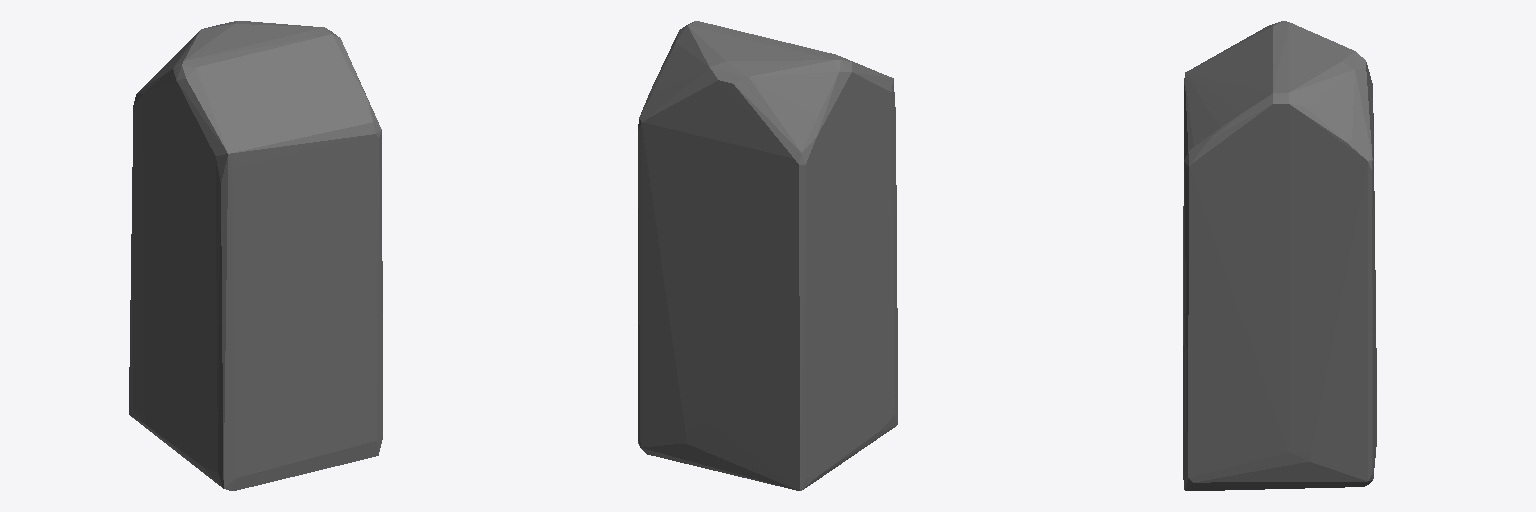
robot.urdf — tetra_pak_023:
<?xml version="1.0" ?>
<robot name="tetra_pak_023">
  <material name="color">
    <color rgba=".5 .5 .5 1"/>
  </material>

  <link name="base_link">
    <contact>
      <lateral_friction value="1.0"/>
      <rolling_friction value="0.001"/>
      <spinning_friction value="0.001"/>
      <inertia_scaling value="1.0"/>
    </contact>
    <inertial>
      <origin rpy="0 0 0" xyz="-2.66882e-06 0.000322246 -0.0124978"/>
       <mass value="0.1"/>
       <inertia ixx="1" ixy="0" ixz="0" iyy="1" iyz="0" izz="1"/>
    </inertial>

    <visual>
      <origin rpy="0 0 0" xyz="0 0 0"/>
      <geometry>
        <mesh filename="tetra_pak_023_vhacd_0_of_1.obj" scale="1 1 1"/>
      </geometry>
      <material name="color"/>
    </visual>

    <collision>
      <origin rpy="0 0 0" xyz="0 0 0"/>
      <geometry>
        <mesh filename="tetra_pak_023_vhacd_0_of_1.obj" scale="1 1 1"/>
      </geometry>
    </collision>

  </link>
</robot>

--- What the picture shows (computed from the rendered views, not written in the file) ---
3 views of the same robot in one strip: view 1: azimuth 30°, elevation 25°; view 2: azimuth 150°, elevation 25°; view 3: azimuth 270°, elevation 25° (orthographic).
Robot: tetra_pak_023 — 1 links, 0 joints (none); root link base_link; default pose: every joint at zero.
Visible links, largest first — view 1: base_link; view 2: base_link; view 3: base_link.
Link boxes in pixels (x1,y1,x2,y2): base_link: (129, 21, 382, 490); base_link: (638, 21, 897, 490); base_link: (1183, 21, 1376, 490).
Bounding box of the posed robot: 0.0836 × 0.0839 × 0.1897 m (x, y, z).
Meshes: 1 distinct files referenced, 1 mesh visuals loaded (1 OBJ).